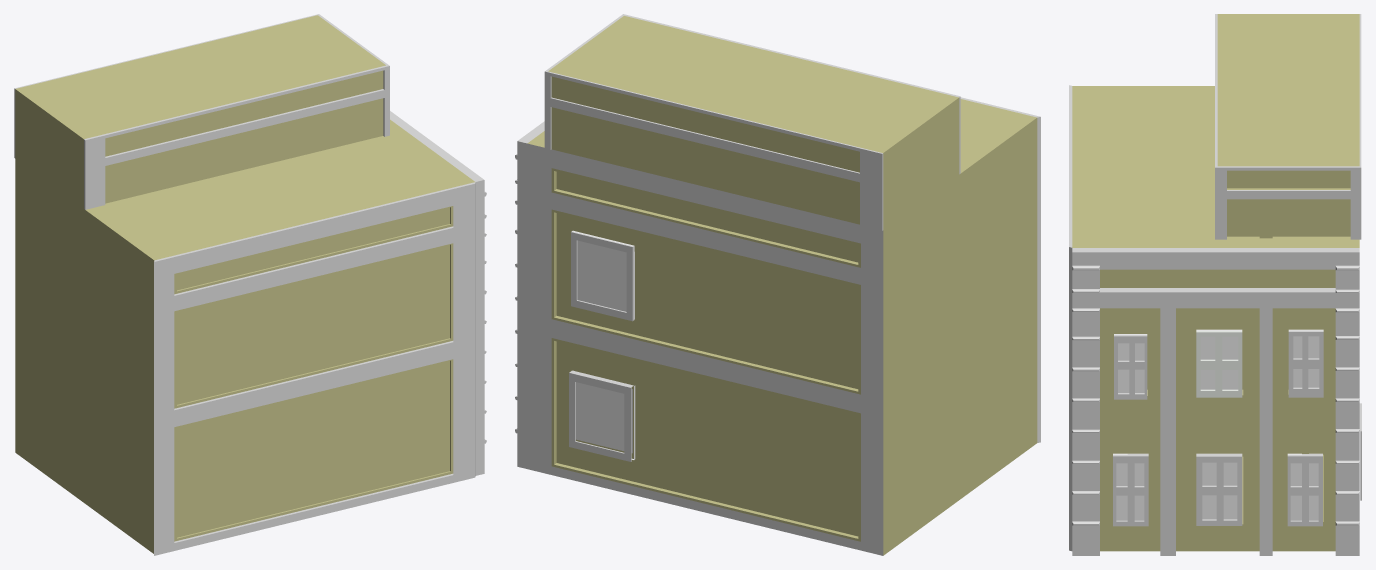
File: yellowhouse.glb
3 renders of one model, left to right at view 1: azimuth 30°, elevation 25°; view 2: azimuth 150°, elevation 25°; view 3: azimuth 270°, elevation 25°, orthographic. The views are drawn at different scales.
Parts seen in each view (by area): view 1: 建物1, 白の枠, 建物1 白; view 2: 建物1, 建物1.側面, 白の枠, 建物1 白, 側面 窓上, 側面 窓下, 側面 窓枠下, 側面 窓枠上; view 3: 建物1, 建物1 白, 白の枠, 真ん中下 窓枠, 窓枠.001, 左下 窓枠, 右上 窓枠.001, 右下 窓枠, 真ん中上 窓, 真ん中下 窓, 右上 窓枠, 左下 窓 (+3 smaller).
Boxes of the visible parts, box(x1,y1,x2,y2) form: 建物1: box(15, 15, 474, 553); 白の枠: box(14, 14, 475, 555); 建物1 白: box(390, 111, 486, 475); 建物1: box(527, 16, 1037, 555); 建物1.側面: box(527, 143, 883, 555); 白の枠: box(544, 14, 1040, 442); 建物1 白: box(515, 121, 544, 468); 側面 窓上: box(572, 230, 634, 319); 側面 窓下: box(576, 382, 635, 459); 側面 窓枠下: box(569, 370, 633, 461); 側面 窓枠上: box(571, 231, 633, 321); 建物1: box(1072, 14, 1359, 551); 建物1 白: box(1072, 248, 1359, 555); 白の枠: box(1069, 14, 1361, 551); 真ん中下 窓枠: box(1196, 453, 1242, 525); 窓枠.001: box(1196, 331, 1242, 397); 左下 窓枠: box(1113, 453, 1148, 526); 右上 窓枠.001: box(1288, 330, 1323, 397); 右下 窓枠: box(1287, 453, 1322, 526); 真ん中上 窓: box(1196, 329, 1242, 389); 真ん中下 窓: box(1202, 462, 1237, 519); 右上 窓枠: box(1114, 335, 1147, 399); 左下 窓: box(1113, 453, 1144, 520).
Size of the model in its own units: 57.04 by 59.22 by 41.86.
